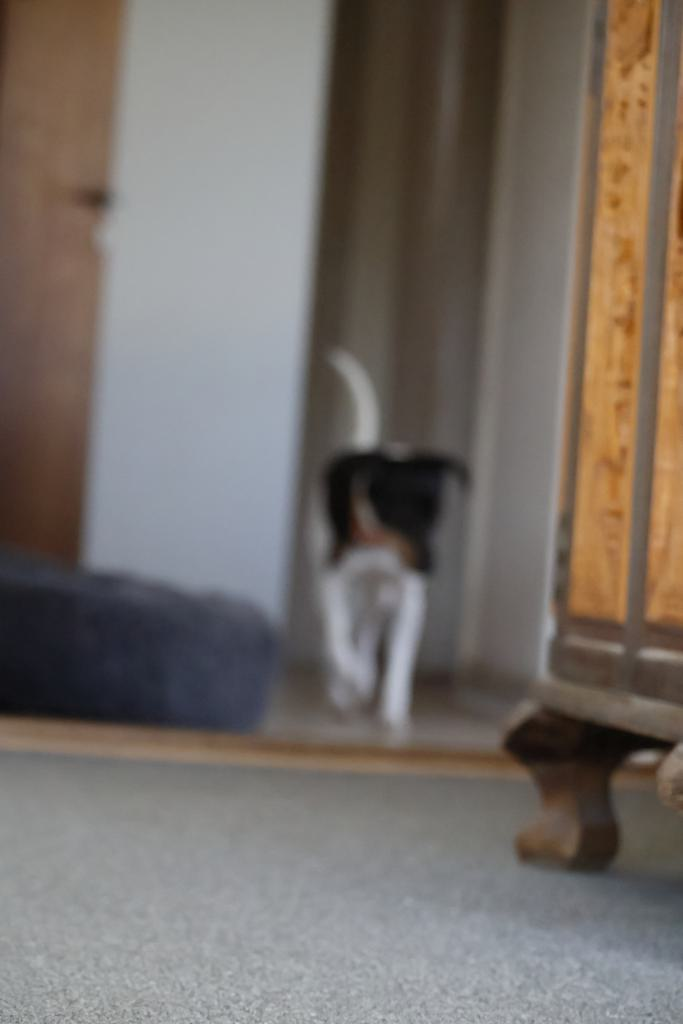Dog: (271, 331, 494, 753)
